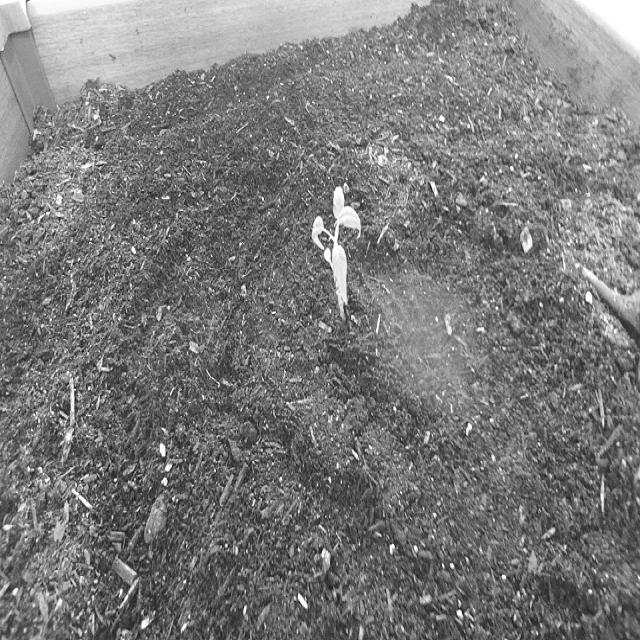Healthy: (305, 172, 366, 340)
